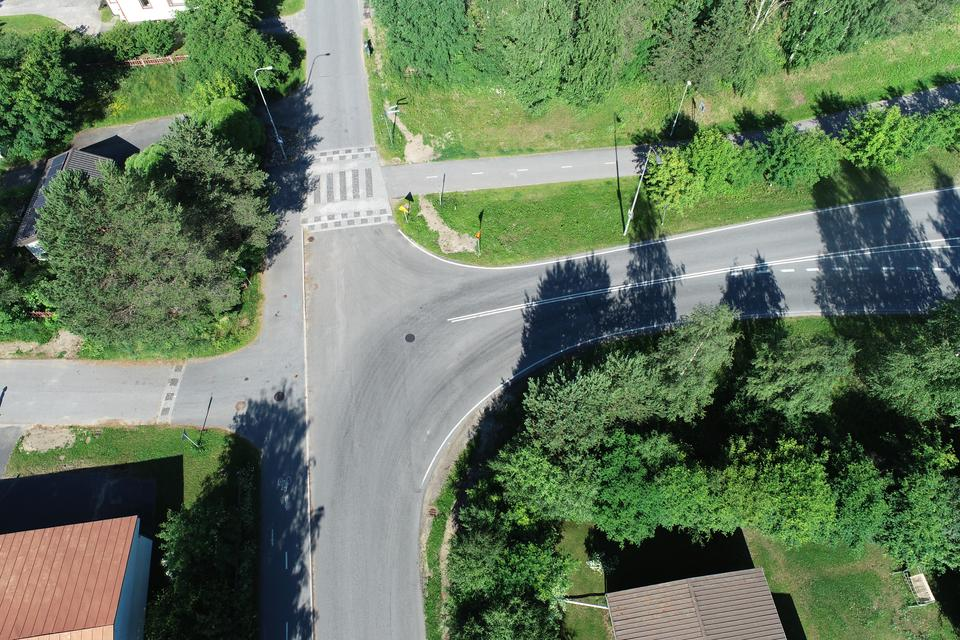intersection: (156, 248, 576, 543), (222, 129, 470, 233)
